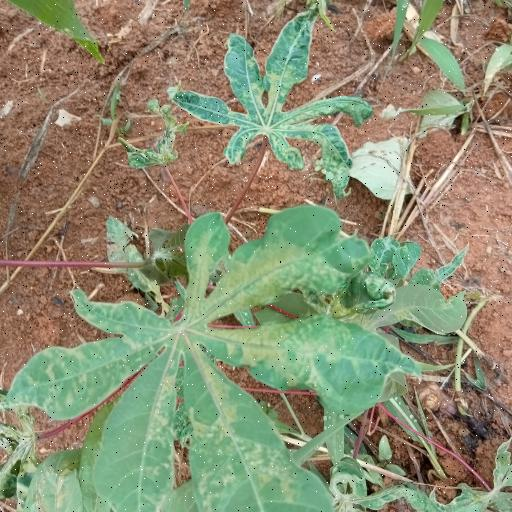Cassava_Mosaic: (47, 230, 362, 512), (177, 11, 367, 196)
